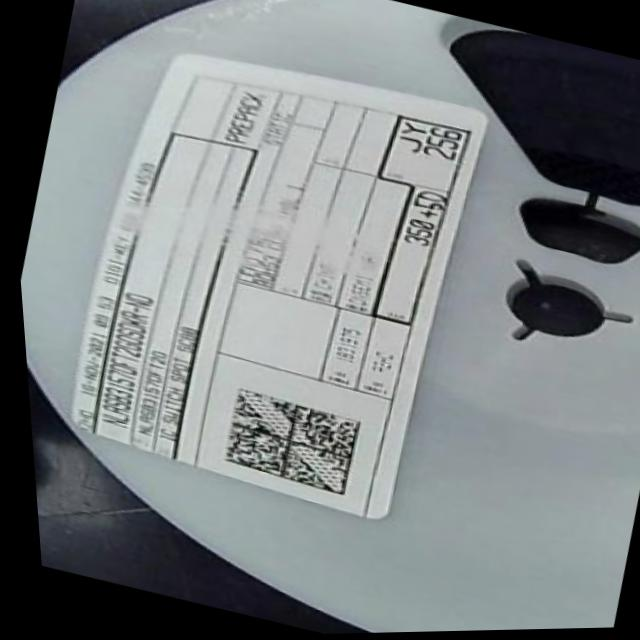datamatrix: (208, 383, 364, 501)
